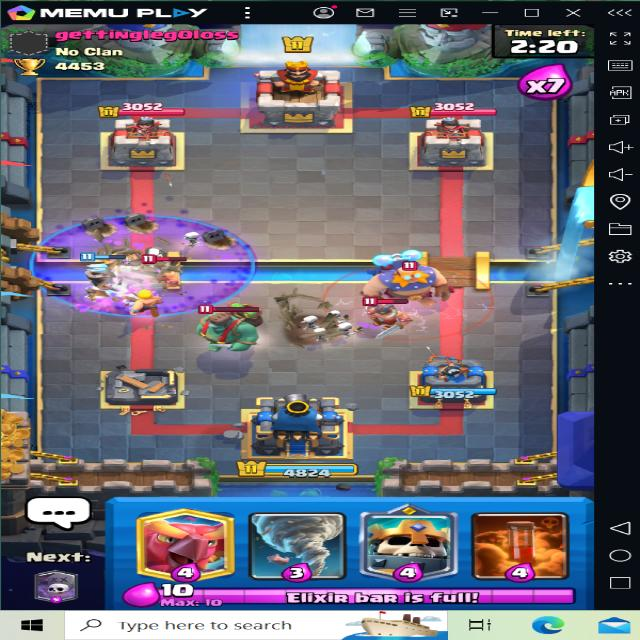electro-barbarians: (355, 292, 416, 335), (146, 260, 199, 289)
electro-giant: (354, 249, 460, 309)
goblin-giant: (188, 298, 268, 356)
